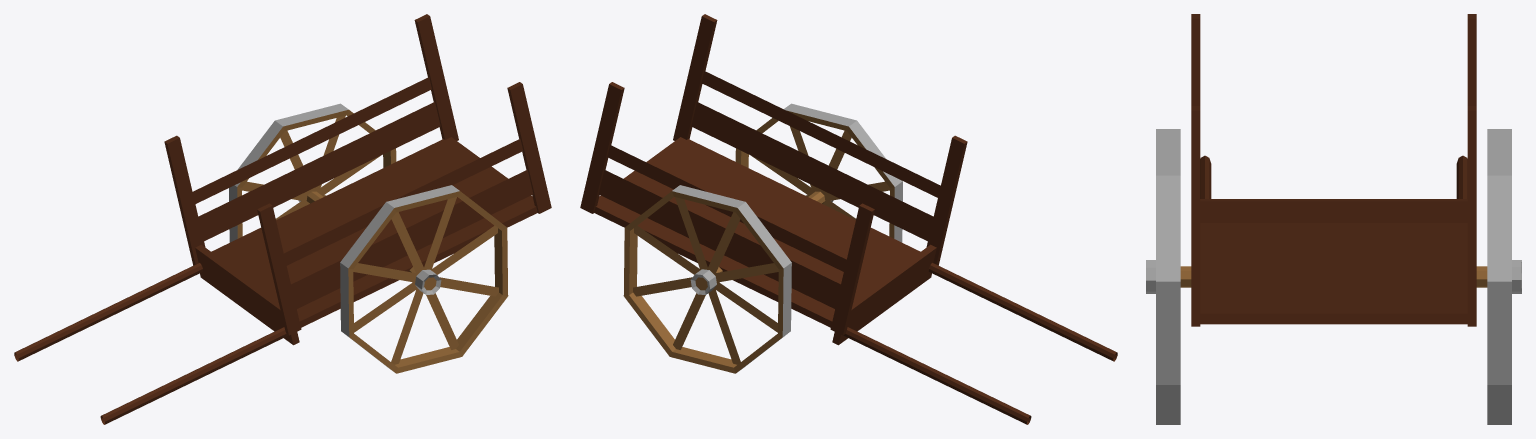
Rendered from CarretaB.fbx.
3 renders of one model, left to right at view 1: azimuth 30°, elevation 25°; view 2: azimuth 150°, elevation 25°; view 3: azimuth 270°, elevation 25°, orthographic. The views are drawn at different scales.
Visible parts, largest first — view 1: CarretaA; view 2: CarretaA; view 3: CarretaA.
Part boxes in pixels (bbox=[...]): CarretaA: bbox=[14, 14, 551, 424]; CarretaA: bbox=[580, 14, 1117, 424]; CarretaA: bbox=[1146, 14, 1521, 424].
Bounding box in the file's own units: 347 × 184 × 170.
